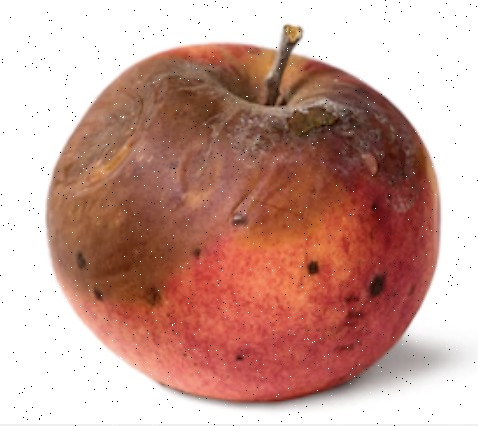rotten_apple: (42, 42, 441, 406)
